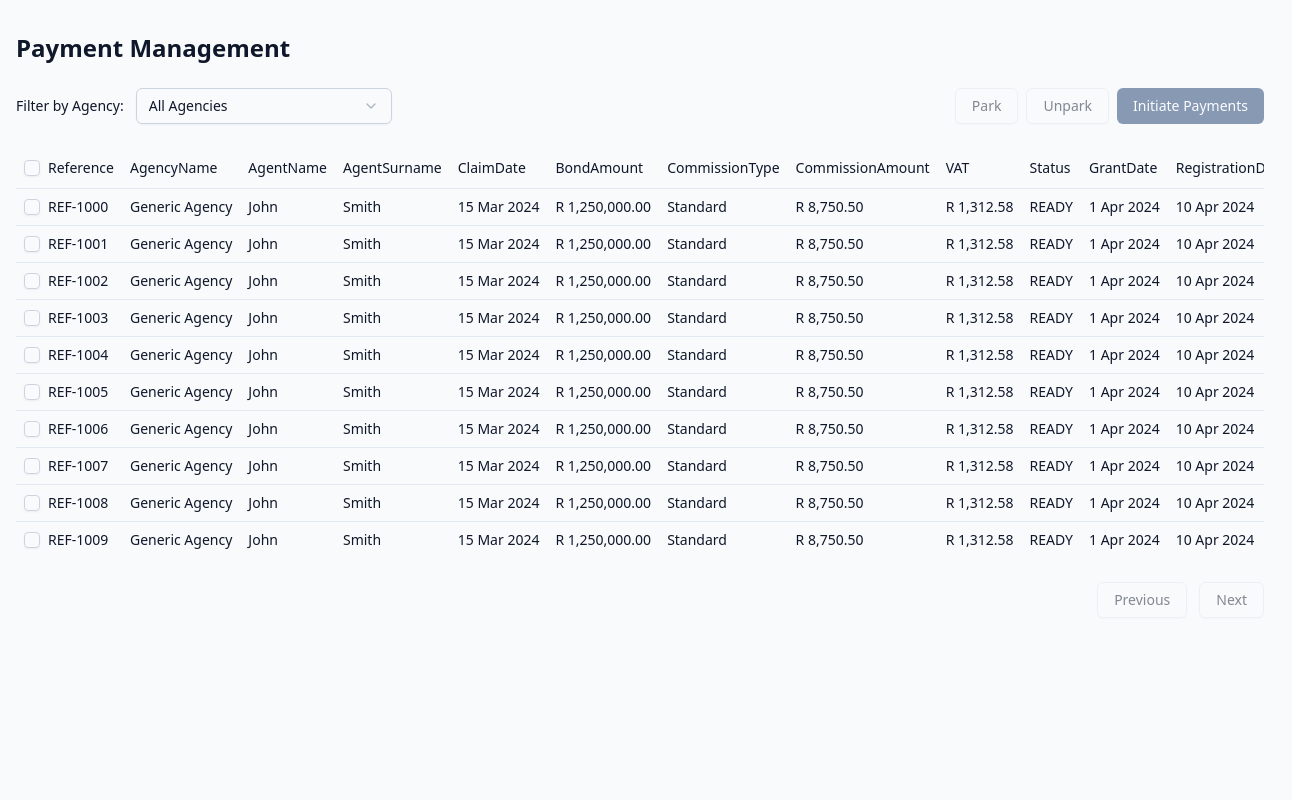
it: Header checkbox selects all current-page rows (AC-3) › ticking the header checkbox checks all row checkboxes and enables Park and Unpark buttons
Click the checkbox named "select all" at (32, 168), box [24, 160, 40, 176]
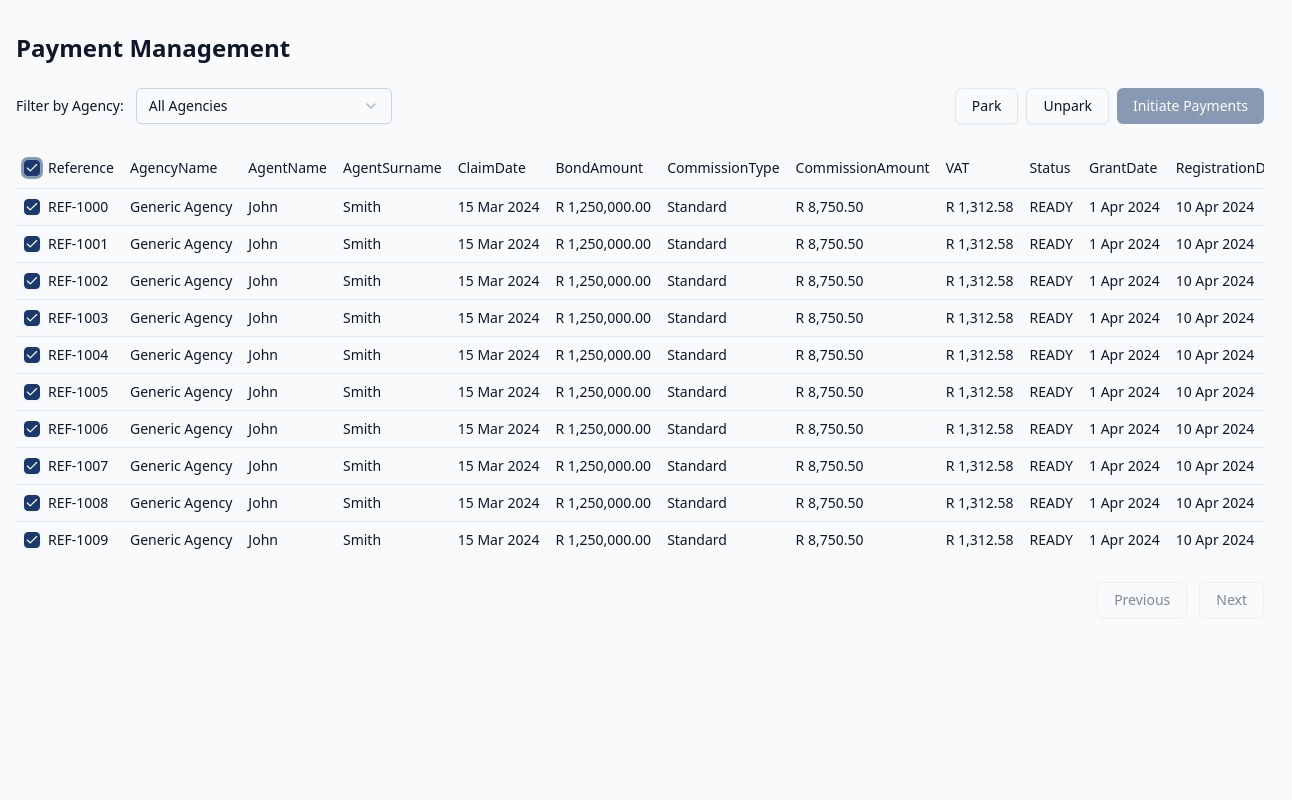
Now the checkbox named "select payment" is checked, box [24, 198, 40, 214]
Now the button "Park" is enabled, box [955, 88, 1018, 124]
Now the button "Unpark" is enabled, box [1026, 88, 1109, 124]
